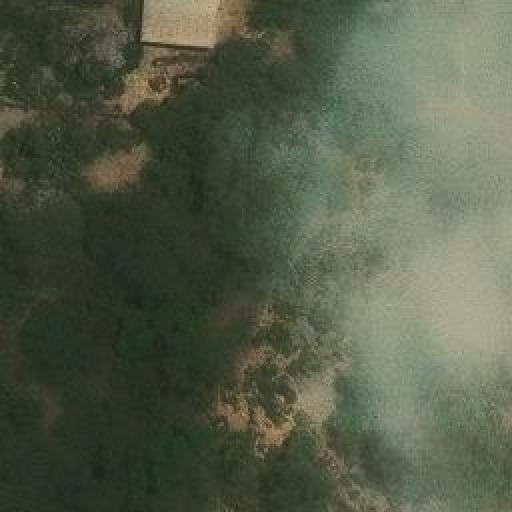manzanas: (137, 1, 224, 49)
